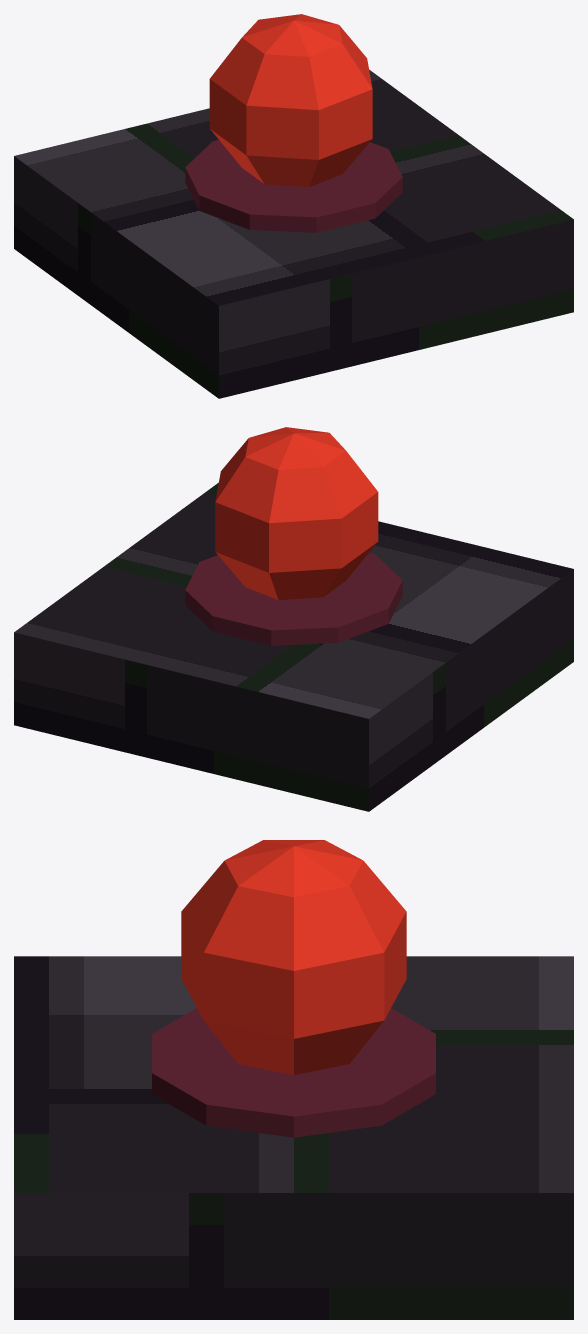
Rendered from heart_slot.glb.
3 views of the same model, one above another, from view 1: azimuth 30°, elevation 25°; view 2: azimuth 150°, elevation 25°; view 3: azimuth 270°, elevation 25° (orthographic). The views are drawn at different scales.
Visible parts, largest first — view 1: heart_slot; view 2: heart_slot; view 3: heart_slot.
Boxes of the visible parts, x1,y1,x2,y2 form: heart_slot: [14, 14, 573, 398]; heart_slot: [14, 427, 573, 811]; heart_slot: [14, 840, 573, 1319].
Bounding box in the file's own units: 1.2 × 0.84 × 1.2.
Materials: 3 (1 with a texture image).
